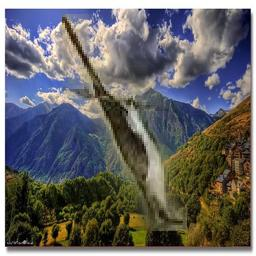Cuckoo: (63, 15, 188, 232)
